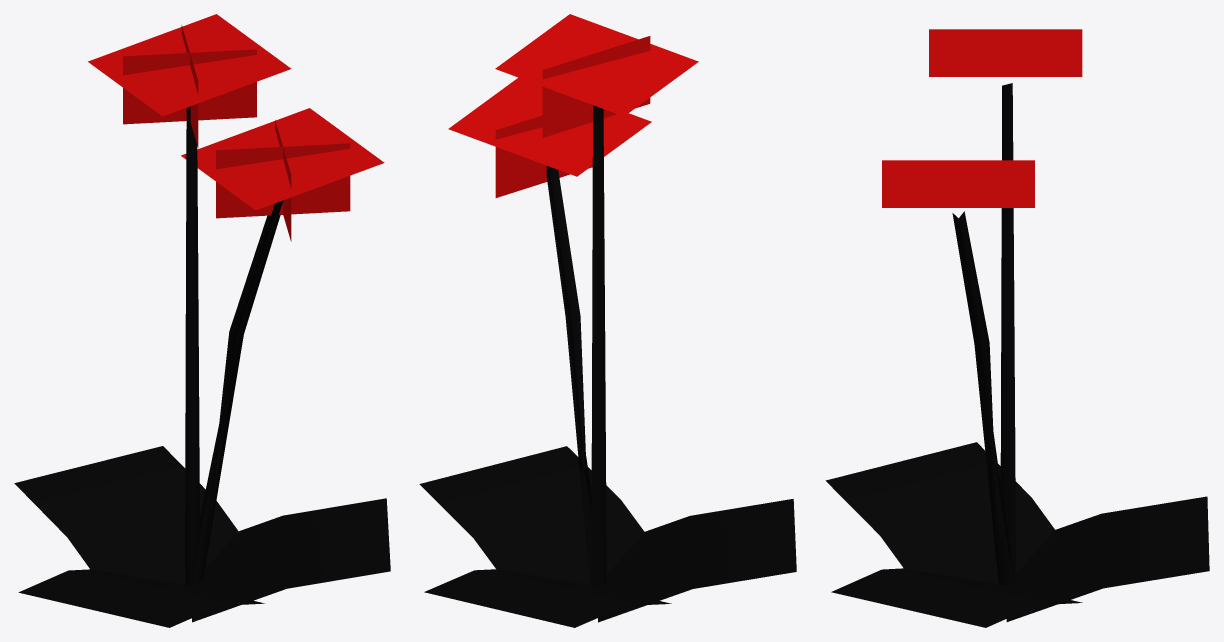
File: flower_yellow.glb
3 views of the same model, side by side, from view 1: azimuth 30°, elevation 25°; view 2: azimuth 150°, elevation 25°; view 3: azimuth 270°, elevation 25° (orthographic). The views are drawn at different scales.
Visible parts, largest first — view 1: lod0; view 2: lod0; view 3: lod0.
Boxes of the visible parts, bbox=[...] form: lod0: bbox=[14, 14, 390, 627]; lod0: bbox=[419, 14, 796, 627]; lod0: bbox=[825, 29, 1209, 627].
Size of what is drawn, in the model's own units: 0.7465 by 1.04 by 0.6522.
